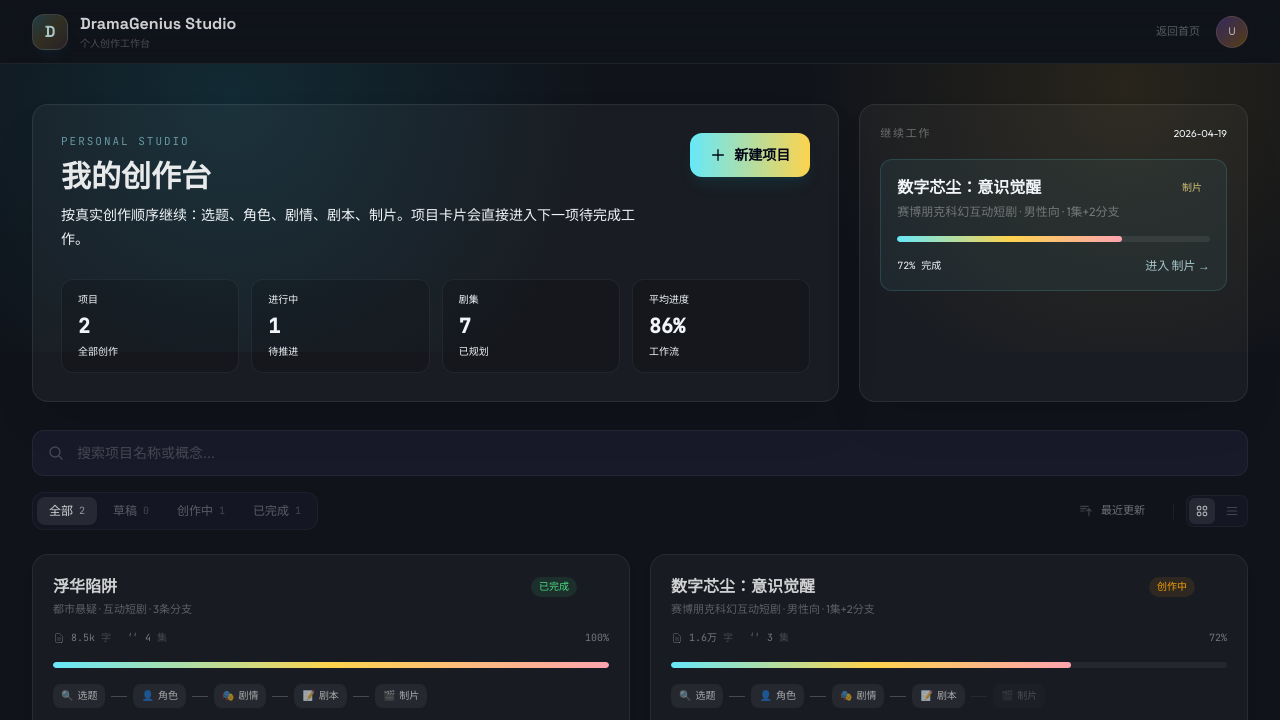
ProjectsPage › 交互测试 › filters projects by search query
Expected: the heading "浮华陷阱" is shown, [53,576,117,597]
Step 1. Type "芯尘" into the field with placeholder "搜索项目名称或概念..." → (640, 453), box [32,430,1248,476]
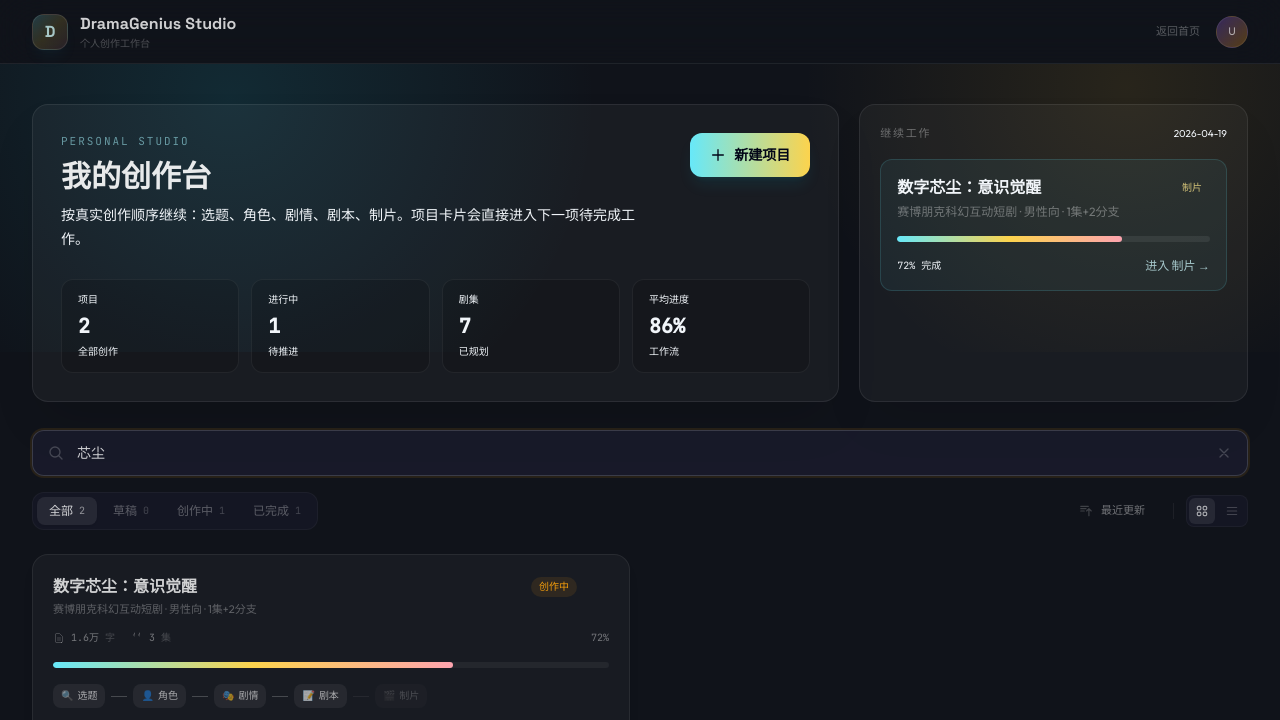
Expected: the heading "浮华陷阱" is gone
